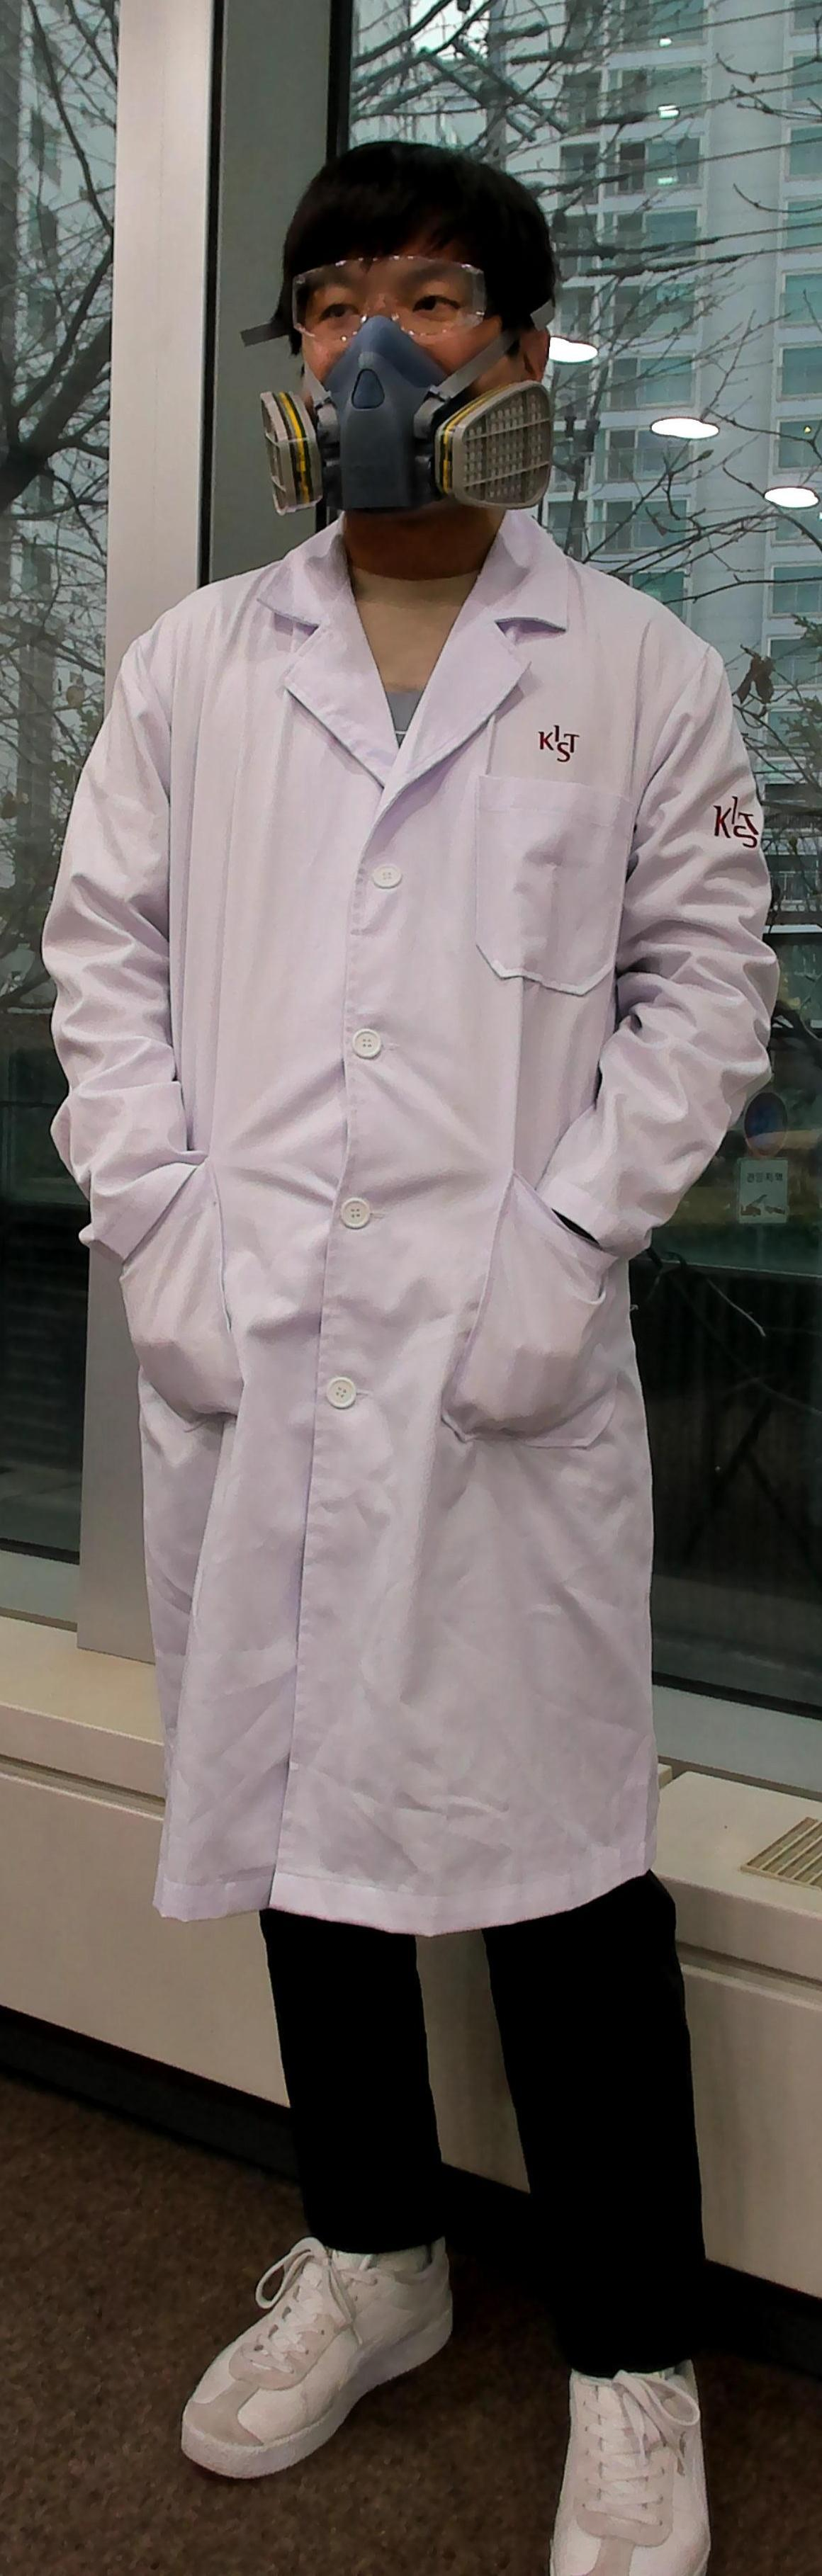lab_coat: (23, 568, 806, 1896)
